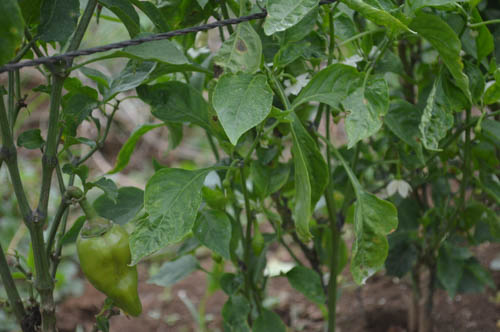ChiliPepper: (77, 227, 145, 311)
